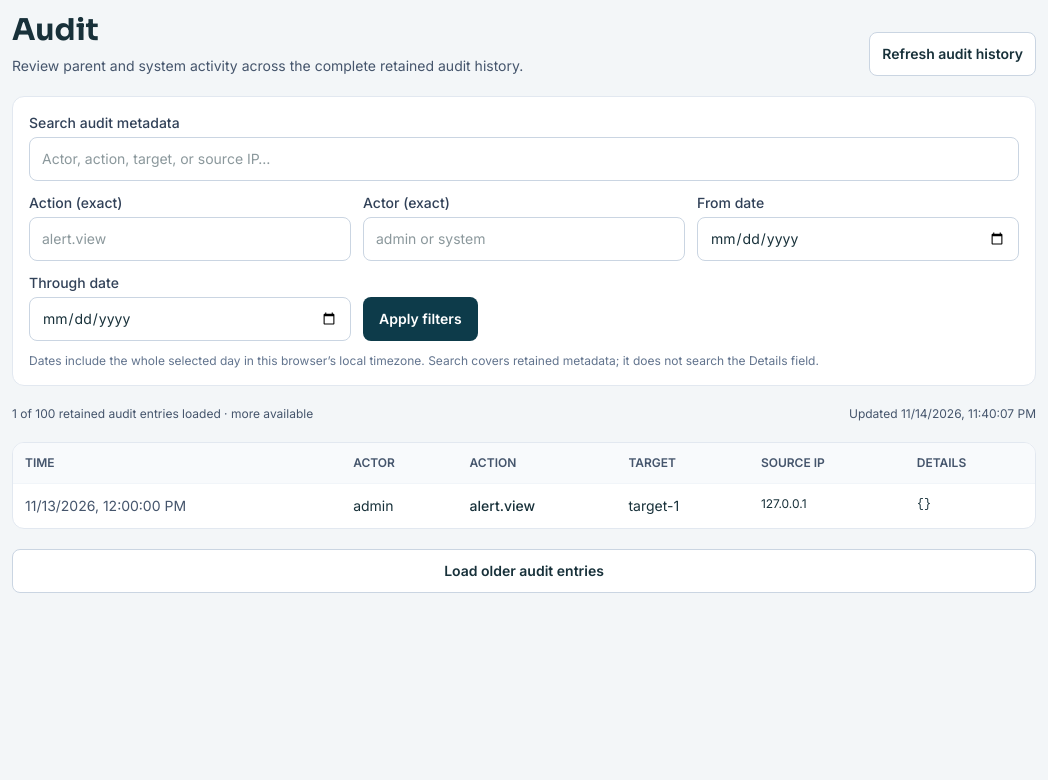
Scenario: complete audit history › applies exact actor/action and metadata search to the server and resets pagination
Check: the text "target-1" is shown, box [616, 484, 749, 528]
Click the button "Load older audit entries" at (524, 571), box [12, 549, 1036, 593]
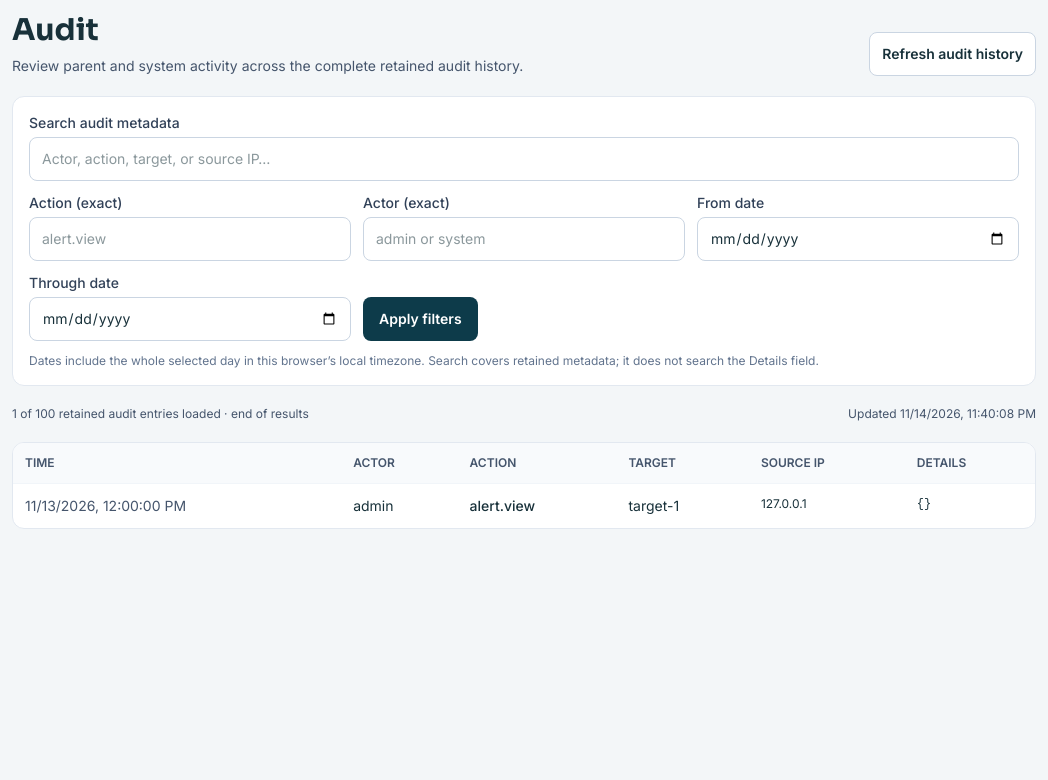
Check: the button "Load older audit entries" is gone
Type " system " into the field labelled "Actor (exact)" at (524, 239), box [363, 217, 685, 261]
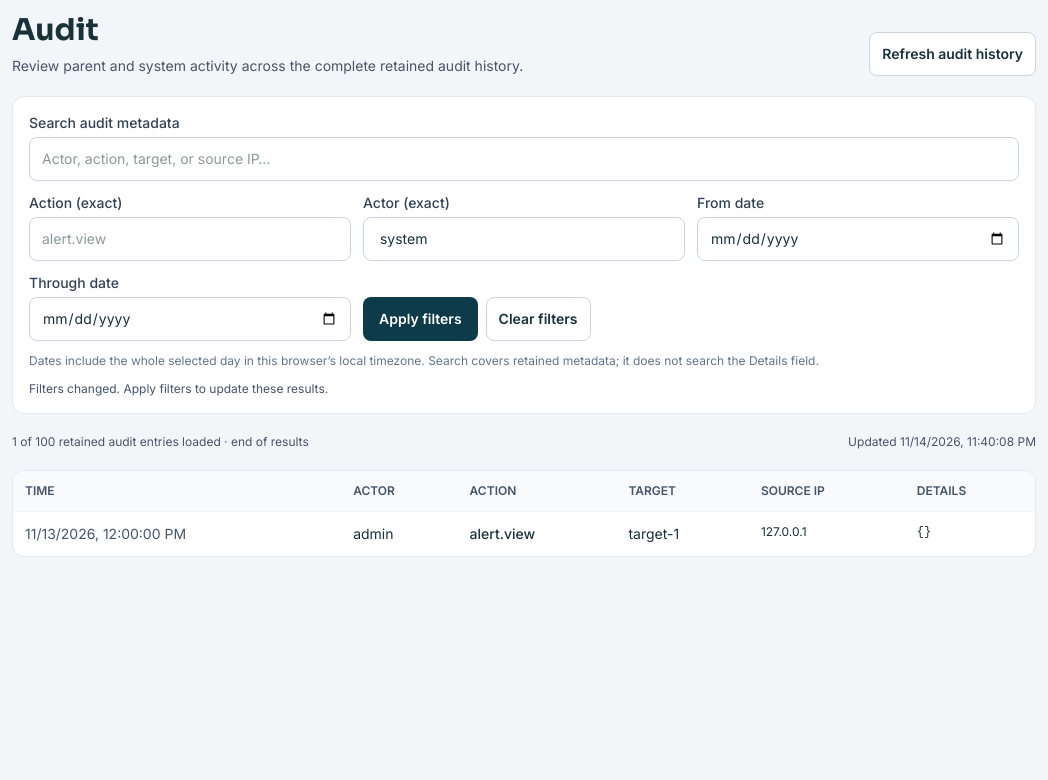
Type " retention.cleanup " into the field labelled "Action (exact)" at (190, 239), box [29, 217, 351, 261]
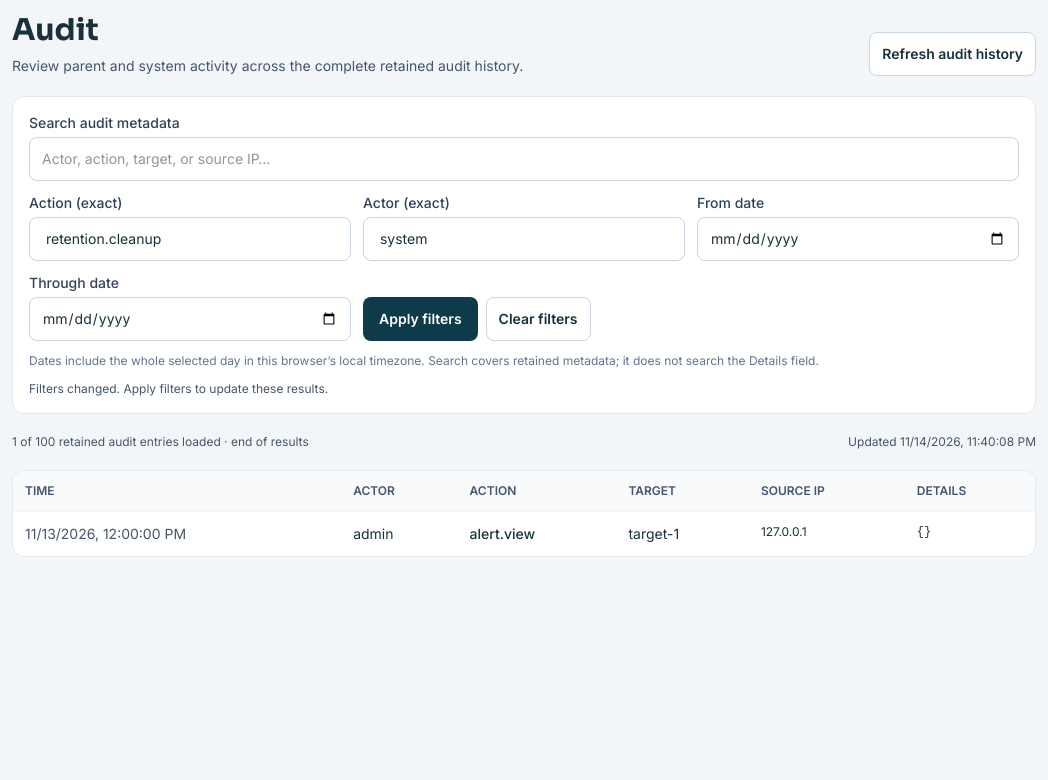
Type " 127.0.0.1 " into the search field labelled "Search audit metadata" at (524, 159), box [29, 137, 1019, 181]
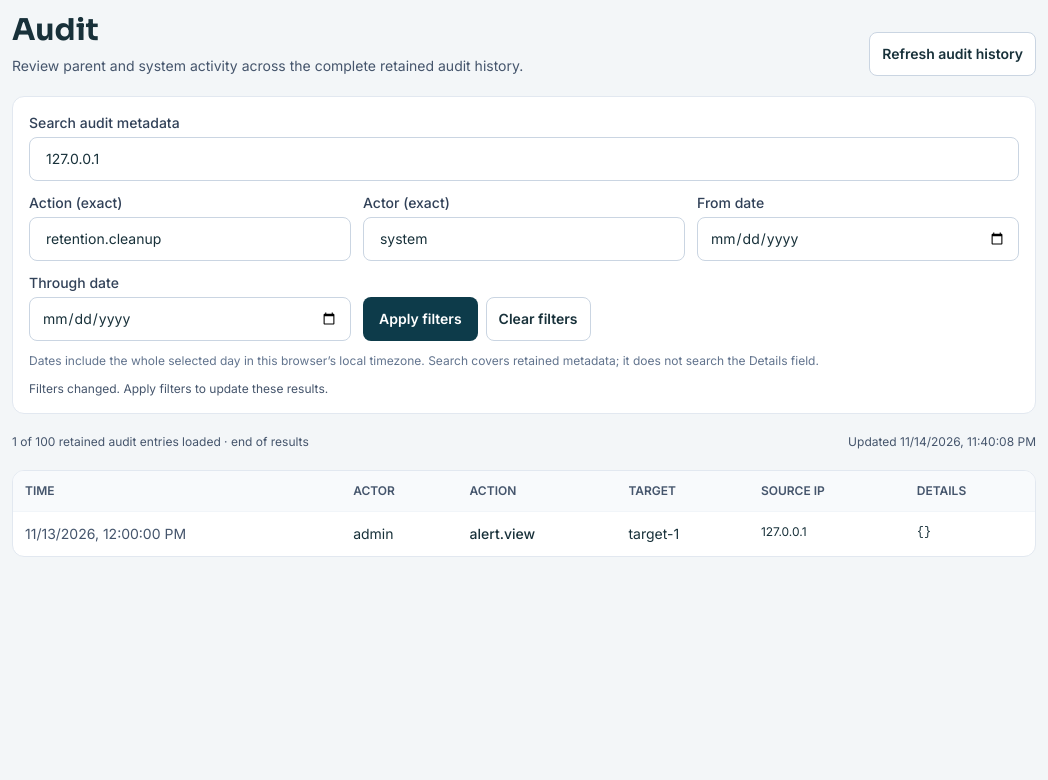
Click the button "Apply filters" at (420, 319), box [363, 297, 478, 341]
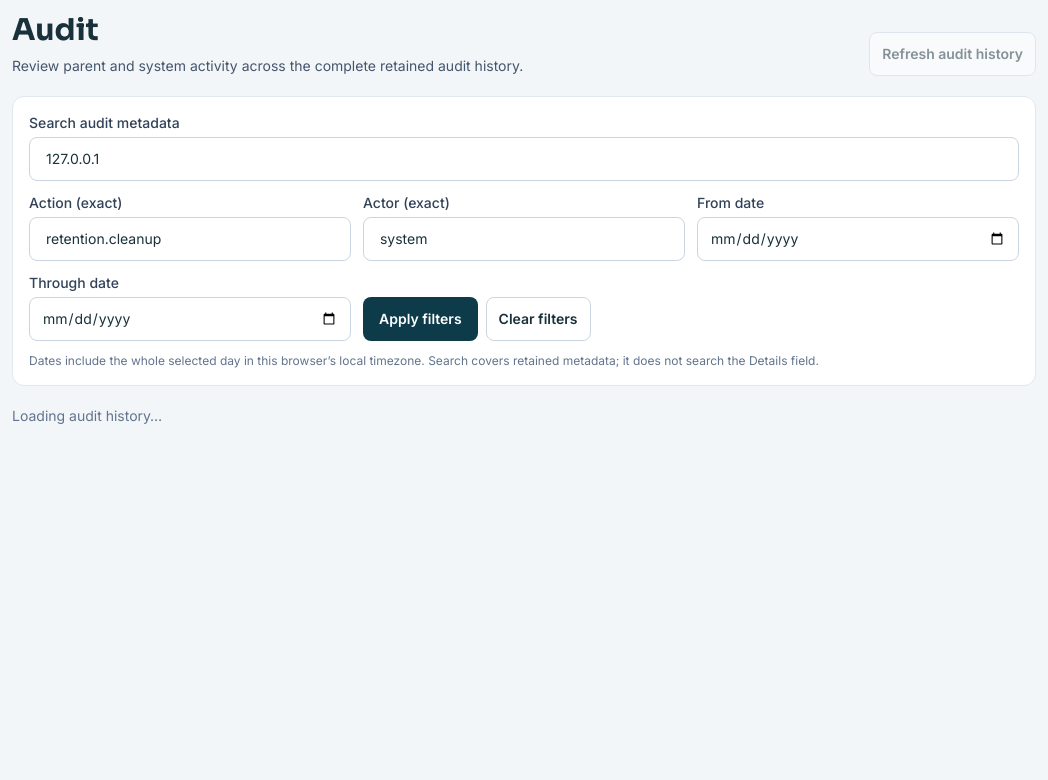
Click the button "Clear filters" at (538, 319), box [486, 297, 590, 341]
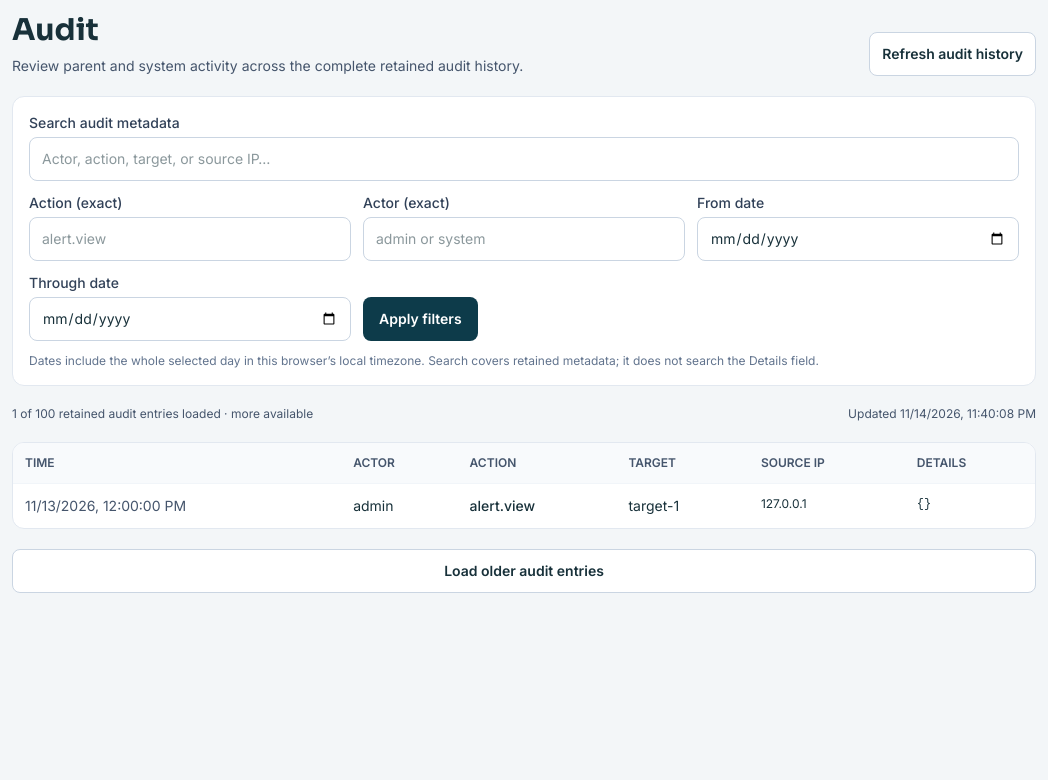
Check: the field labelled "Actor (exact)" is empty, box [363, 217, 685, 261]
